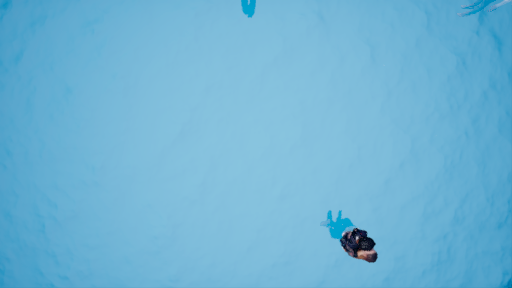person: (320, 213, 393, 267)
